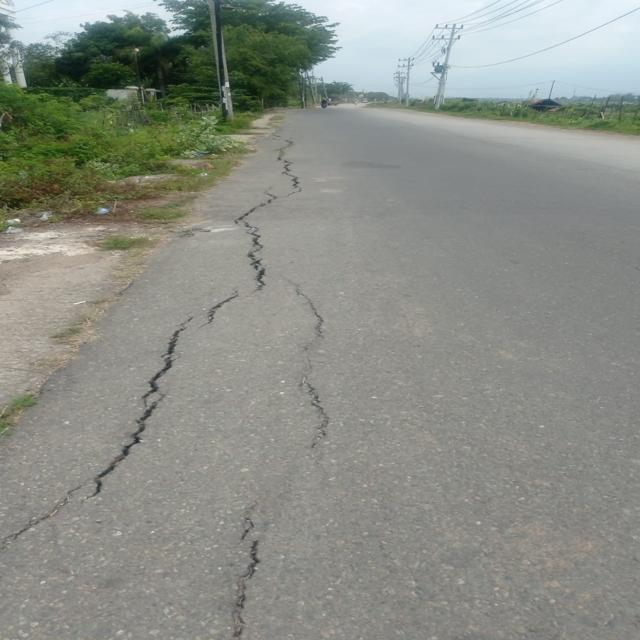Memanjang: (41, 130, 346, 533), (198, 306, 373, 640)
